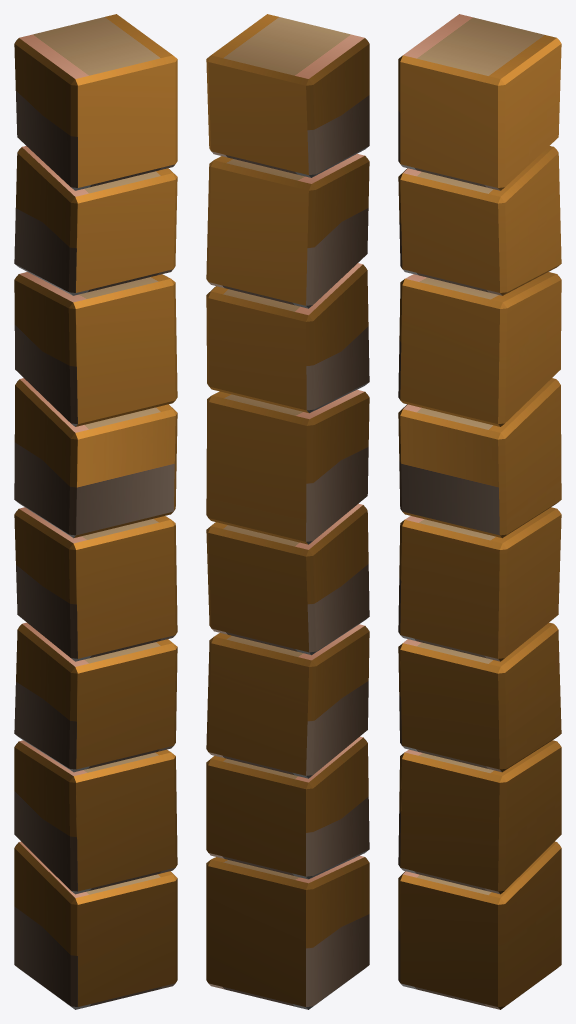
The model's file is TemplePiller.fbx.
3 views of the same model, side by side, from view 1: azimuth 30°, elevation 25°; view 2: azimuth 150°, elevation 25°; view 3: azimuth 330°, elevation 25° (orthographic).
Parts seen in each view (by area): view 1: Cube.007, Cube.005, Cube.003, Cube, Cube.001, Cube.004, Cube.002, Cube.006; view 2: Cube.007, Cube, Cube.004, Cube.006, Cube.002, Cube.003, Cube.005, Cube.001; view 3: Cube.007, Cube.005, Cube.003, Cube, Cube.001, Cube.004, Cube.002, Cube.006.
Boxes of the visible parts, box(x1,y1,x2,y2) form: Cube.007: box(14, 14, 177, 190); Cube.005: box(14, 272, 177, 426); Cube.003: box(14, 507, 177, 661); Cube: box(14, 841, 177, 1009); Cube.001: box(14, 740, 177, 894); Cube.004: box(14, 378, 177, 538); Cube.002: box(14, 622, 177, 772); Cube.006: box(14, 146, 177, 295); Cube.007: box(206, 14, 369, 177); Cube: box(206, 855, 369, 1009); Cube.004: box(206, 389, 369, 544); Cube.006: box(206, 153, 369, 308); Cube.002: box(206, 624, 369, 778); Cube.003: box(206, 503, 369, 655); Cube.005: box(206, 263, 369, 413); Cube.001: box(206, 736, 369, 879); Cube.007: box(398, 14, 561, 190); Cube.005: box(398, 272, 561, 426); Cube.003: box(398, 507, 561, 661); Cube: box(398, 841, 561, 1009); Cube.001: box(398, 740, 561, 894); Cube.004: box(398, 378, 561, 538); Cube.002: box(398, 622, 561, 772); Cube.006: box(398, 146, 561, 295).
Bounding box in the file's own units: 200 × 1666 × 200.
